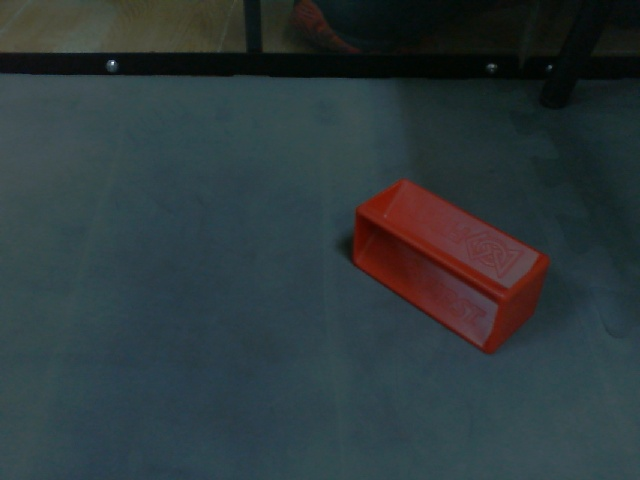RedSample: (348, 178, 553, 358)
